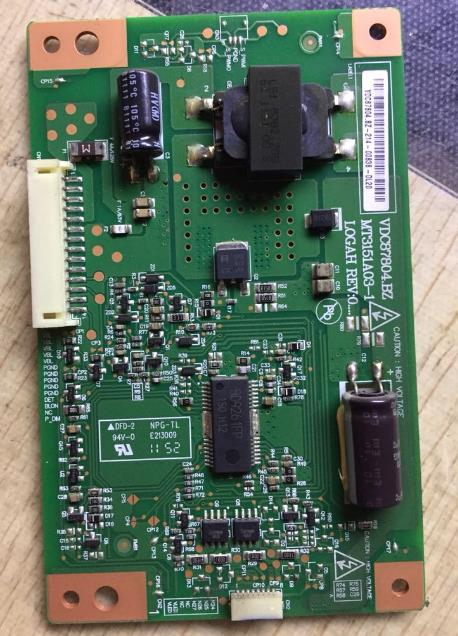capacitor: (319, 353, 420, 538), (105, 60, 178, 179)
